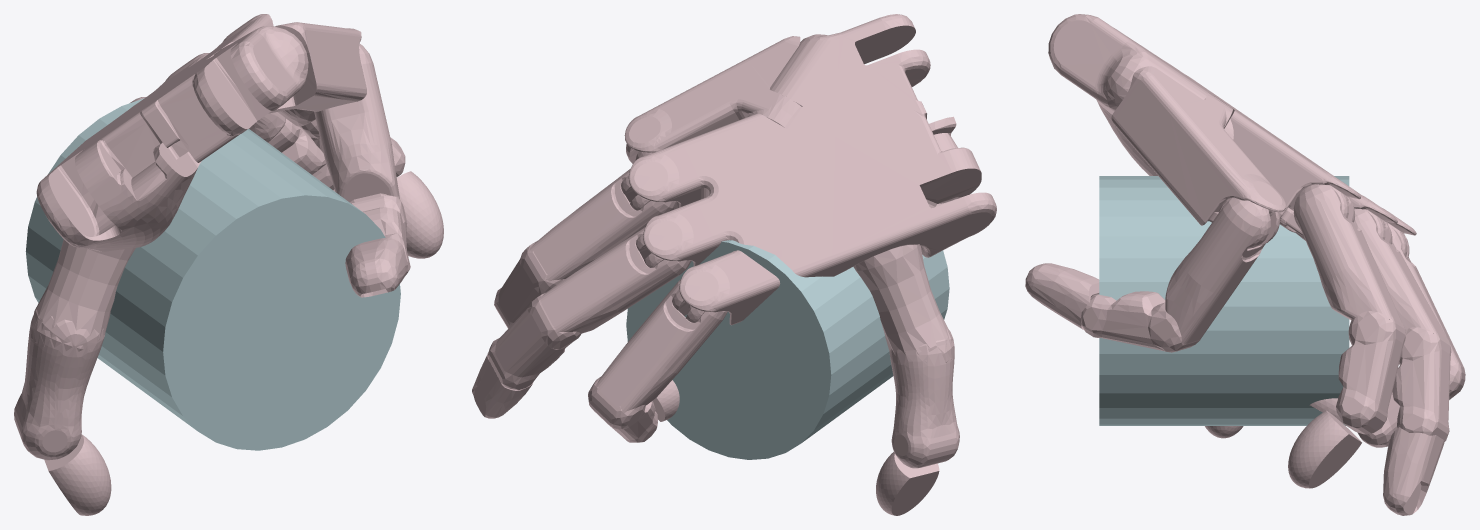
Rendered from grasp_0.glb.
3 renders of one model, left to right at view 1: azimuth 30°, elevation 25°; view 2: azimuth 150°, elevation 25°; view 3: azimuth 270°, elevation 25°, orthographic. The views are drawn at different scales.
Parts seen in each view (by area): view 1: world; view 2: world; view 3: world.
Part boxes in pixels (box(x1,y1,x2,y2)): world: box(14, 14, 443, 515); world: box(472, 14, 996, 515); world: box(1025, 14, 1465, 515).
Bounding box in the file's own units: 0.1619 × 0.1615 × 0.1408.
